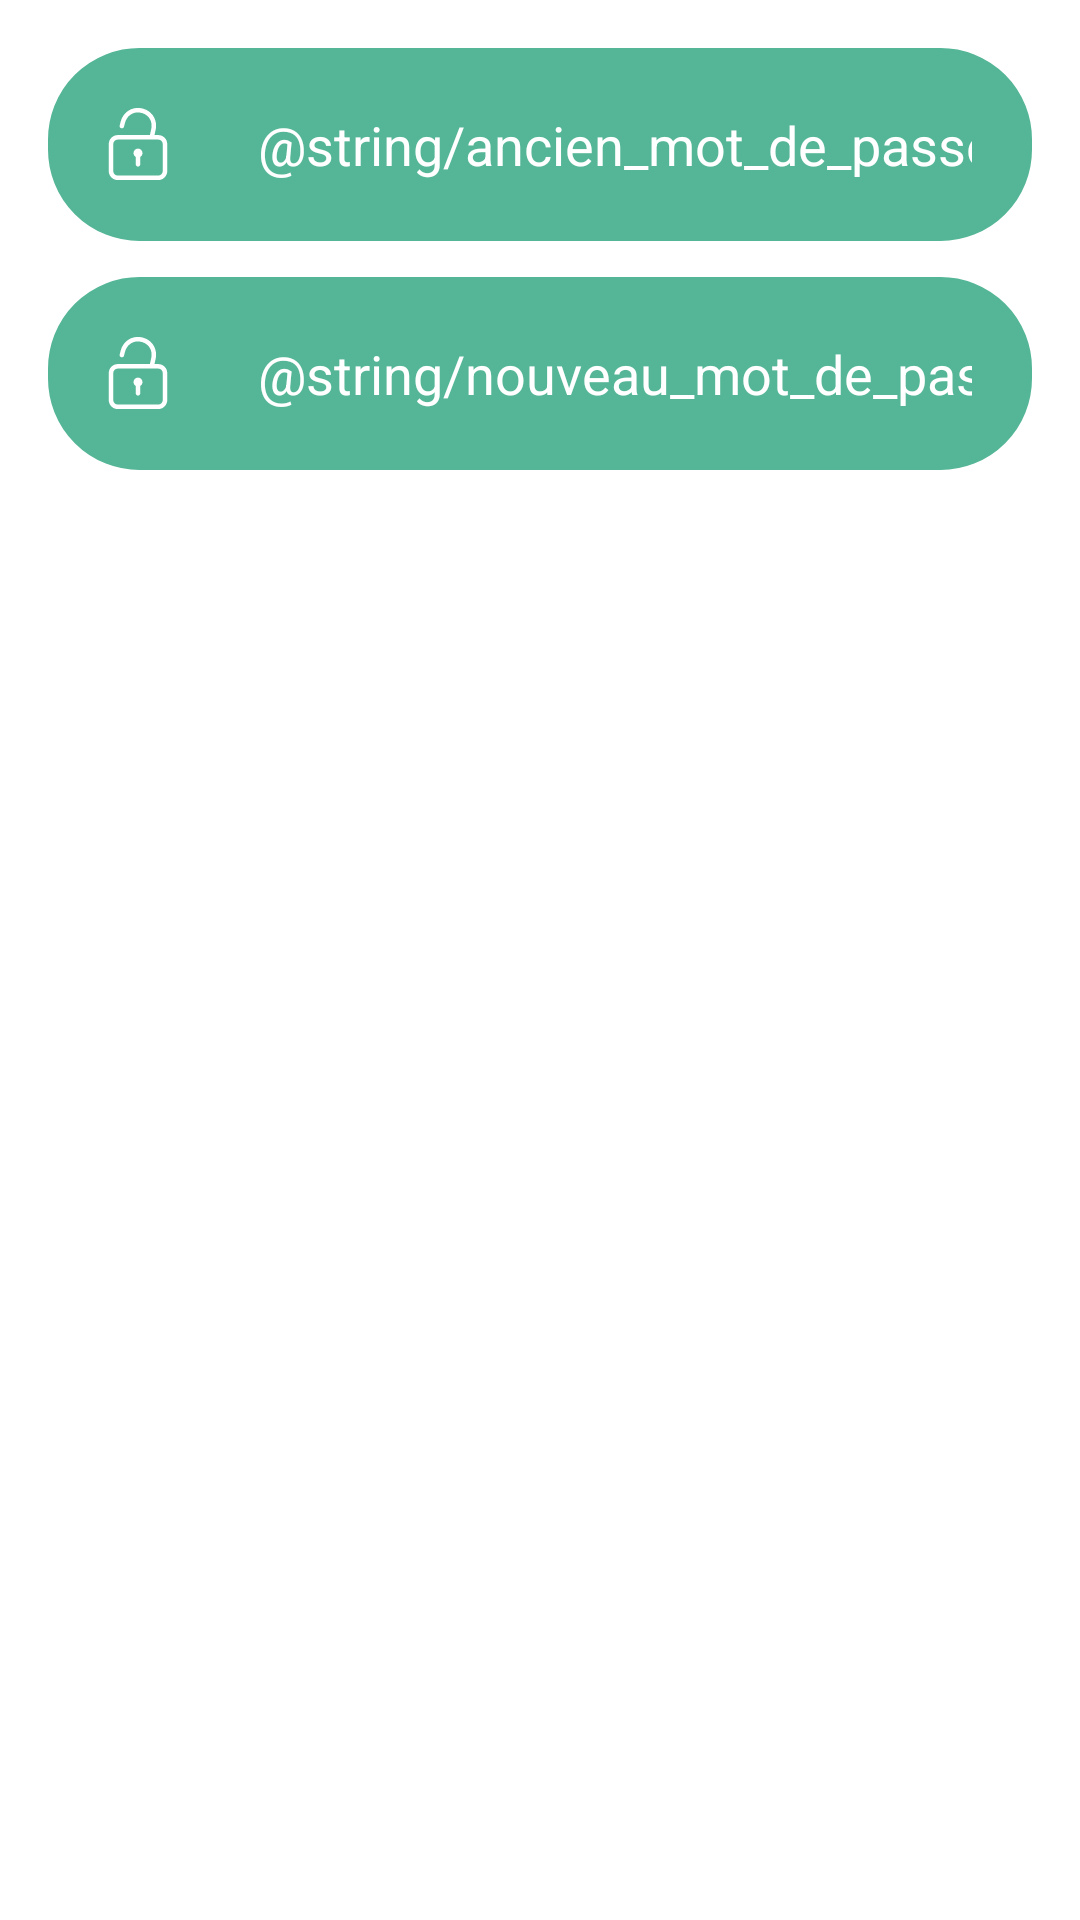

Named icons in this screenshot (1080 x 1920) and their bounding boxes, bbox=[x1, y1, x2, y2]:
lock open: bbox=[108, 108, 168, 180], bbox=[108, 337, 168, 409]
